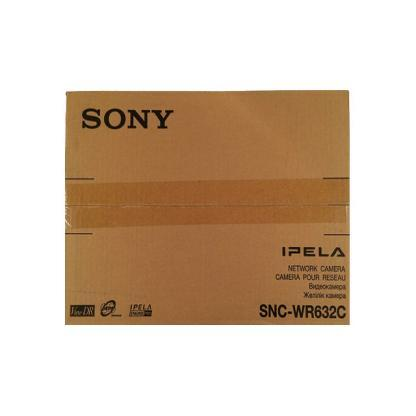package: (66, 92, 348, 322)
